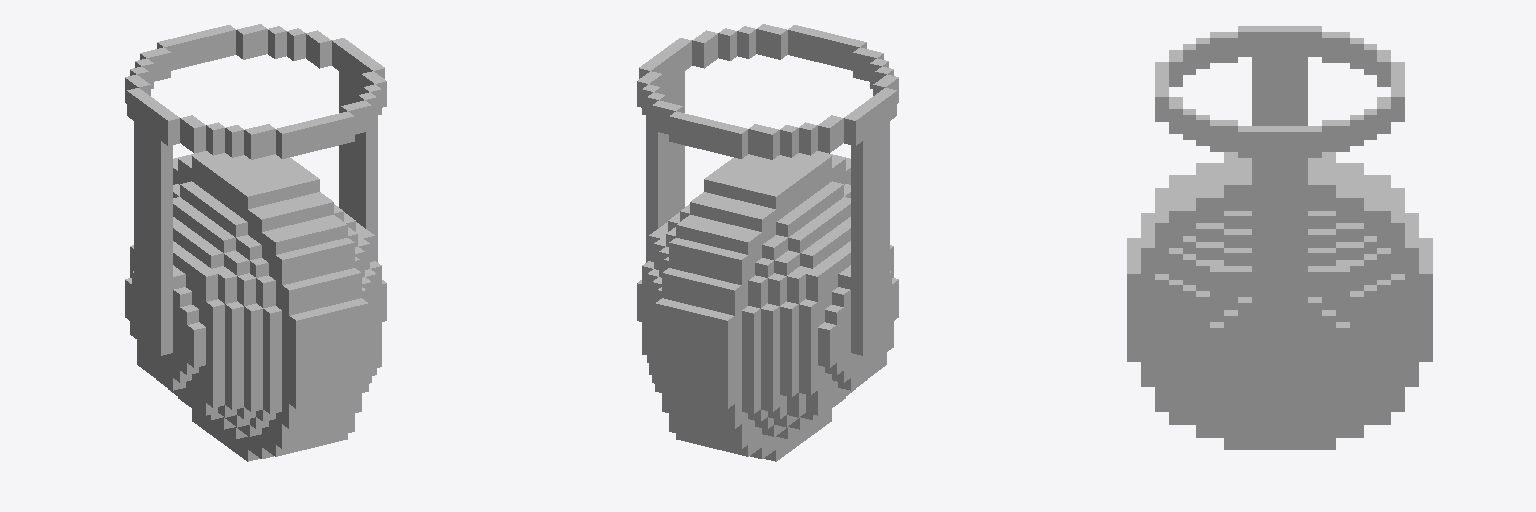
File: Raytomatons Model Testing-1-Wheels.obj
3 views of the same model, side by side, from view 1: azimuth 30°, elevation 25°; view 2: azimuth 150°, elevation 25°; view 3: azimuth 270°, elevation 25° (orthographic).
Visible parts, largest first — view 1: Wheels; view 2: Wheels; view 3: Wheels.
Boxes of the visible parts, box(x1,y1,x2,y2) form: Wheels: box(125, 24, 386, 461); Wheels: box(637, 24, 898, 461); Wheels: box(1127, 26, 1432, 449).
Size of the model in its own units: 1.8 by 2.8 by 2.2.